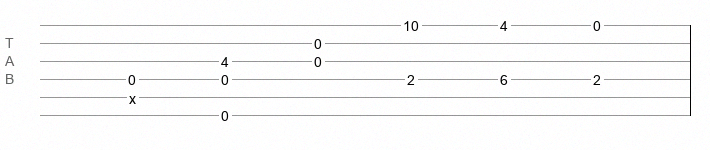0: (128, 72, 136, 82), (221, 72, 229, 82), (221, 108, 229, 118), (314, 36, 322, 46), (314, 54, 322, 64), (593, 18, 601, 28)
10: (403, 18, 419, 28)
2: (407, 72, 415, 82), (593, 72, 601, 82)
4: (221, 54, 229, 64), (500, 18, 508, 28)
6: (500, 72, 508, 82)
x: (129, 91, 136, 99)
